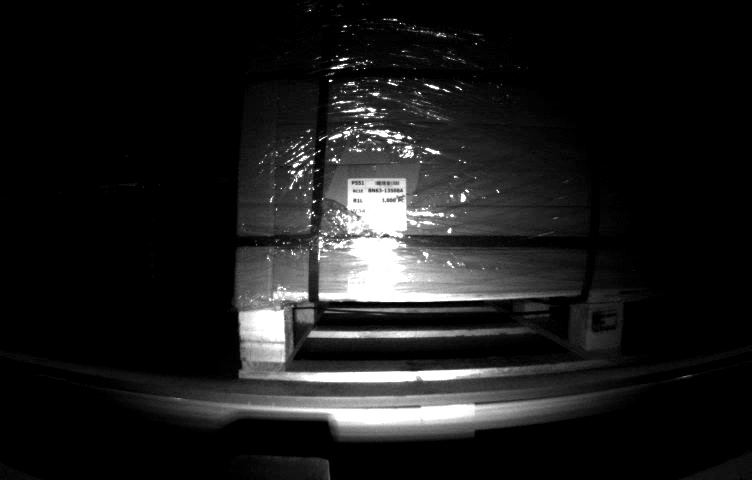True Barcode: (343, 175, 411, 239)
